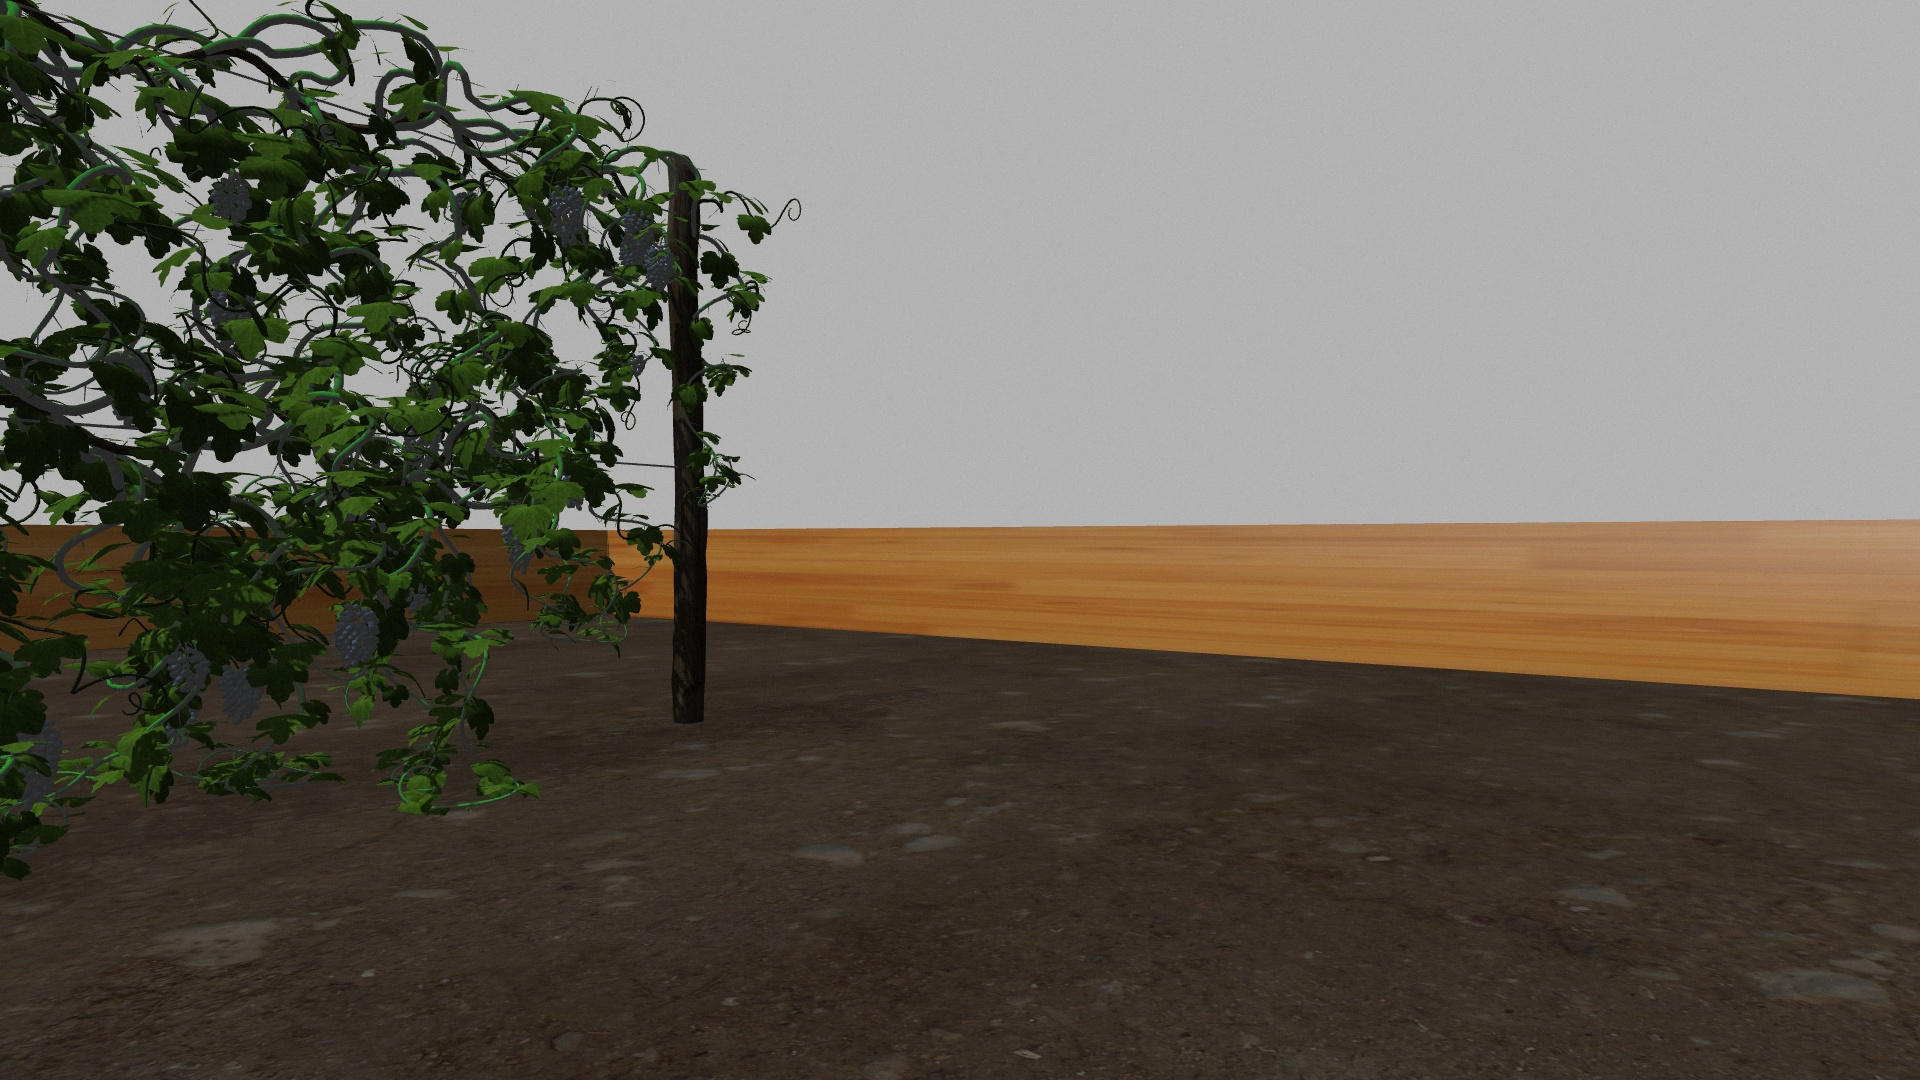grape: (15, 717, 63, 811), (334, 604, 378, 676), (216, 665, 264, 725), (549, 185, 584, 247), (208, 175, 252, 224), (618, 210, 655, 266), (167, 646, 211, 694), (502, 527, 534, 574), (645, 247, 674, 290)
